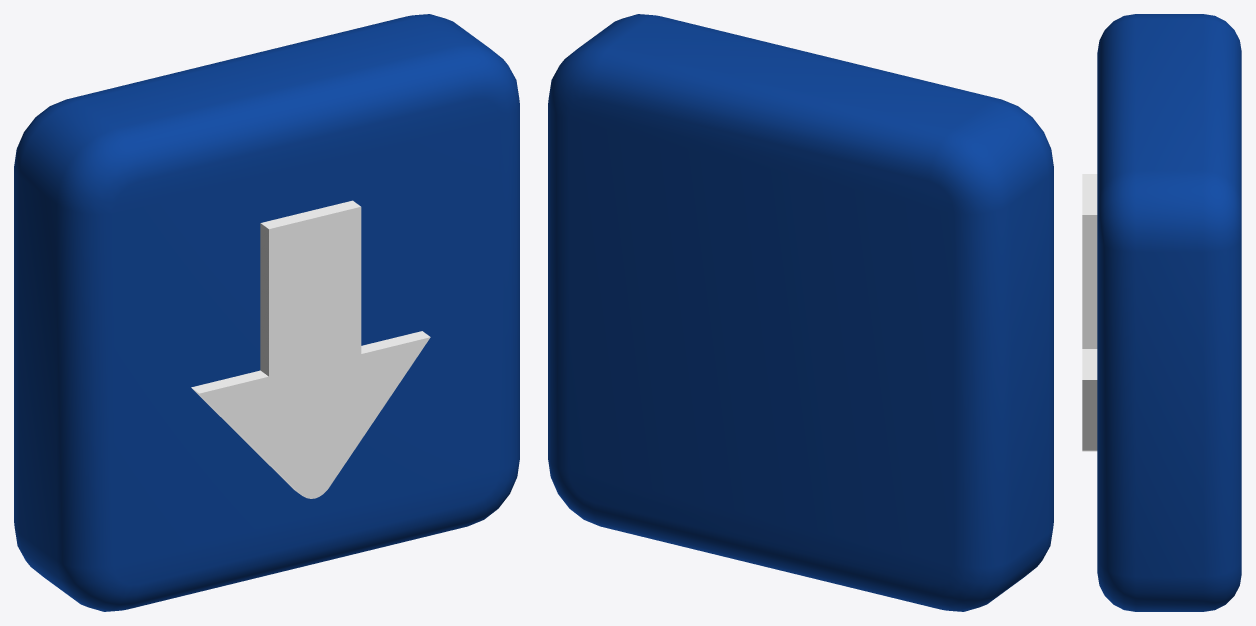
Rendered from down_arrow.glb.
3 views of the same model, side by side, from view 1: azimuth 30°, elevation 25°; view 2: azimuth 150°, elevation 25°; view 3: azimuth 270°, elevation 25° (orthographic). The views are drawn at different scales.
Visible parts, largest first — view 1: Cube.6320; view 2: Cube.6320; view 3: Cube.6320.
Boxes of the visible parts, x1,y1,x2,y2 form: Cube.6320: (14,14,519,611); Cube.6320: (548,14,1053,611); Cube.6320: (1082,14,1241,611).
Bounding box in the file's own units: 2.2 × 2.2 × 0.73.
1 material, 1 textured.
